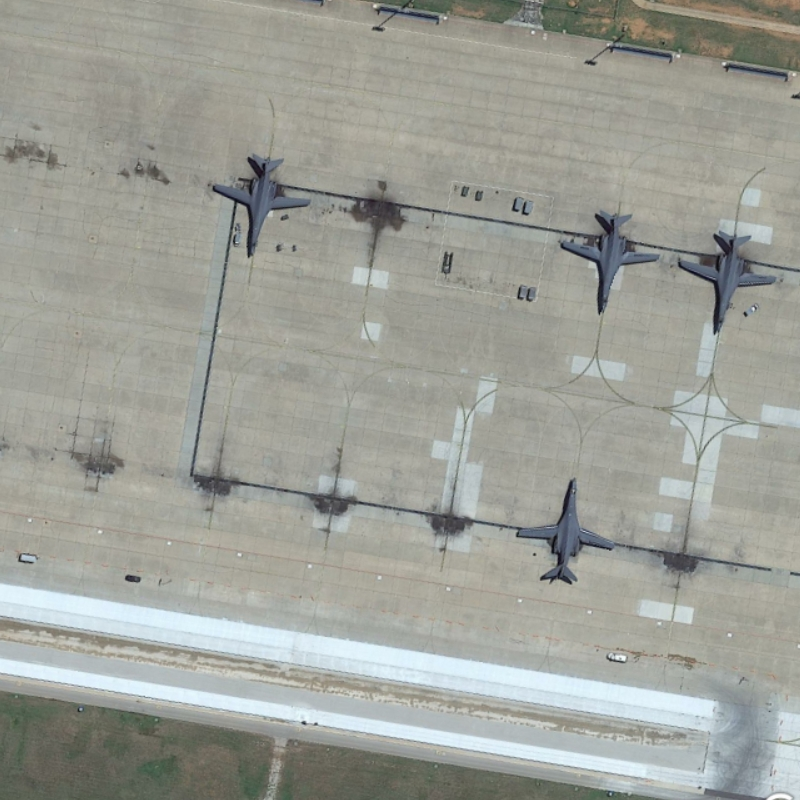A10: (508, 471, 620, 594), (554, 196, 665, 320), (204, 144, 316, 261), (675, 224, 783, 342)
